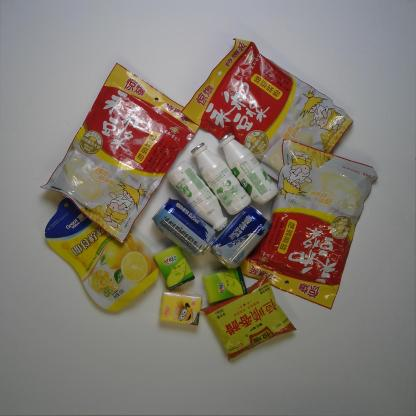Alcohol: (150, 197, 219, 260), (210, 204, 272, 270)
Dried Fruit: (43, 196, 160, 312)
Instant Drink: (38, 61, 200, 244), (180, 36, 354, 186), (238, 138, 378, 310)
Milk: (216, 132, 280, 206), (165, 160, 229, 233), (190, 142, 252, 216)
Seasoner: (200, 272, 298, 362)
Tissue: (152, 244, 196, 290), (201, 265, 248, 304), (158, 289, 202, 327)
